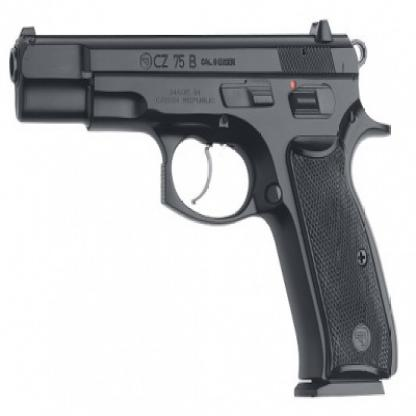Guns: (5, 16, 400, 397)
